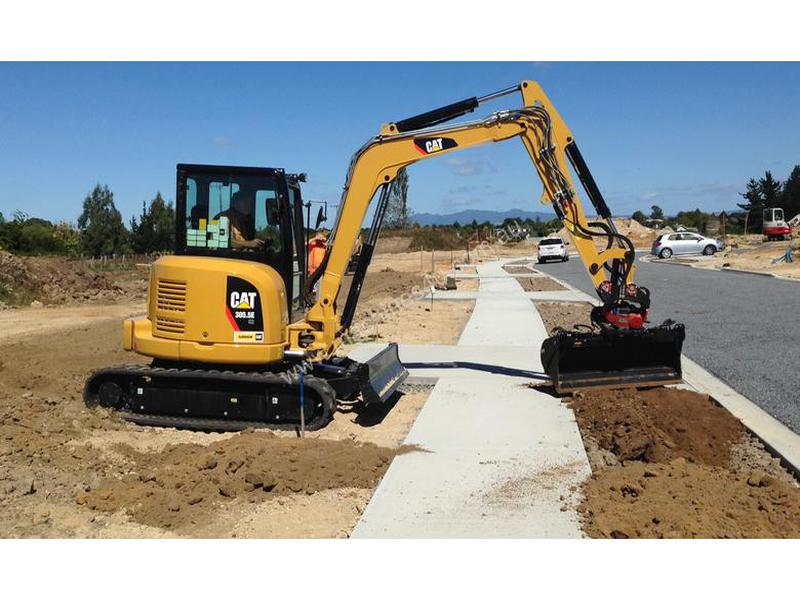shovel: (88, 72, 691, 436)
